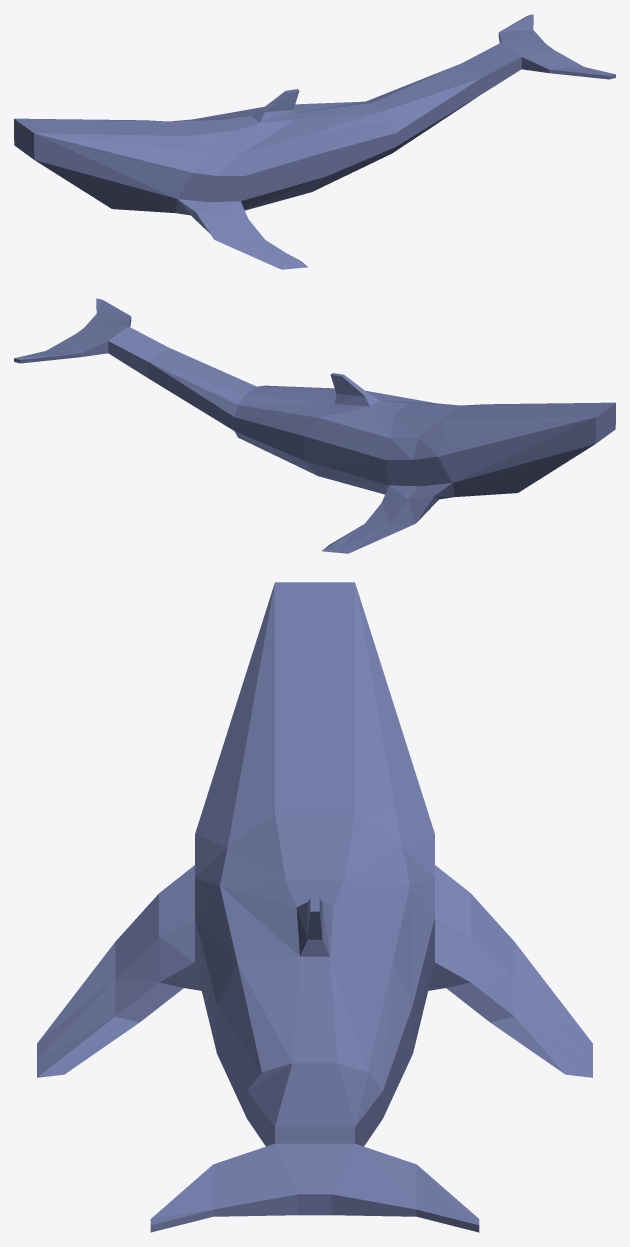
Rendered from popolo_balena.glb.
The picture shows the model from 3 angles, top to bottom: view 1: azimuth 30°, elevation 25°; view 2: azimuth 150°, elevation 25°; view 3: azimuth 270°, elevation 25°; orthographic projection. The views are drawn at different scales.
Visible parts, largest first — view 1: Object.1; view 2: Object.1; view 3: Object.1.
Boxes of the visible parts, left/top/right/bottom form: Object.1: left=14, top=14, right=615, bottom=269; Object.1: left=14, top=298, right=615, bottom=553; Object.1: left=37, top=582, right=592, bottom=1232.
Bounding box in the file's own units: 3 × 0.7435 × 1.31.
